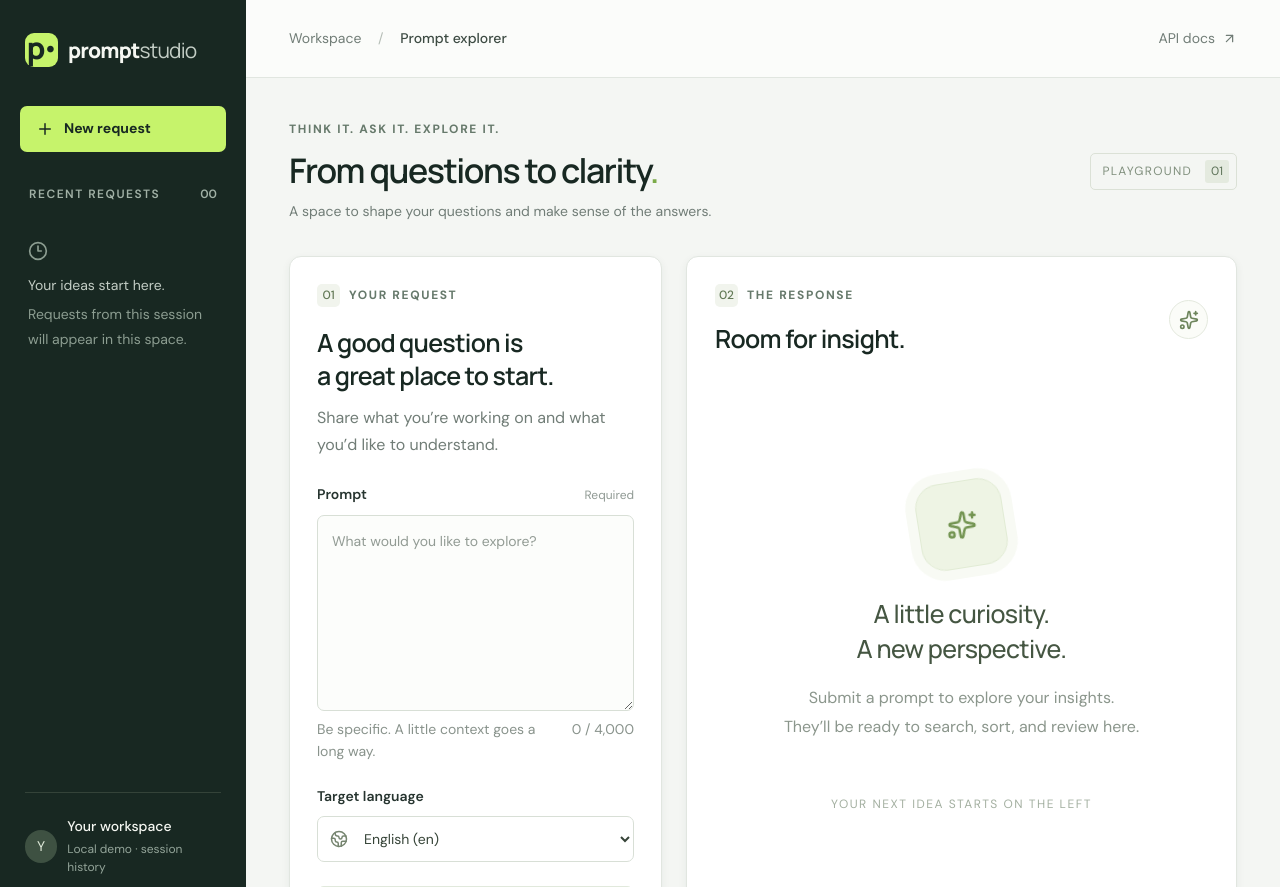
load more appends cached pages without repeating POST and history reuses the cache
Type "Improve customer onboarding" into the text box labelled "Prompt" at [476, 613], box [317,515,634,711]
(page scrolled)
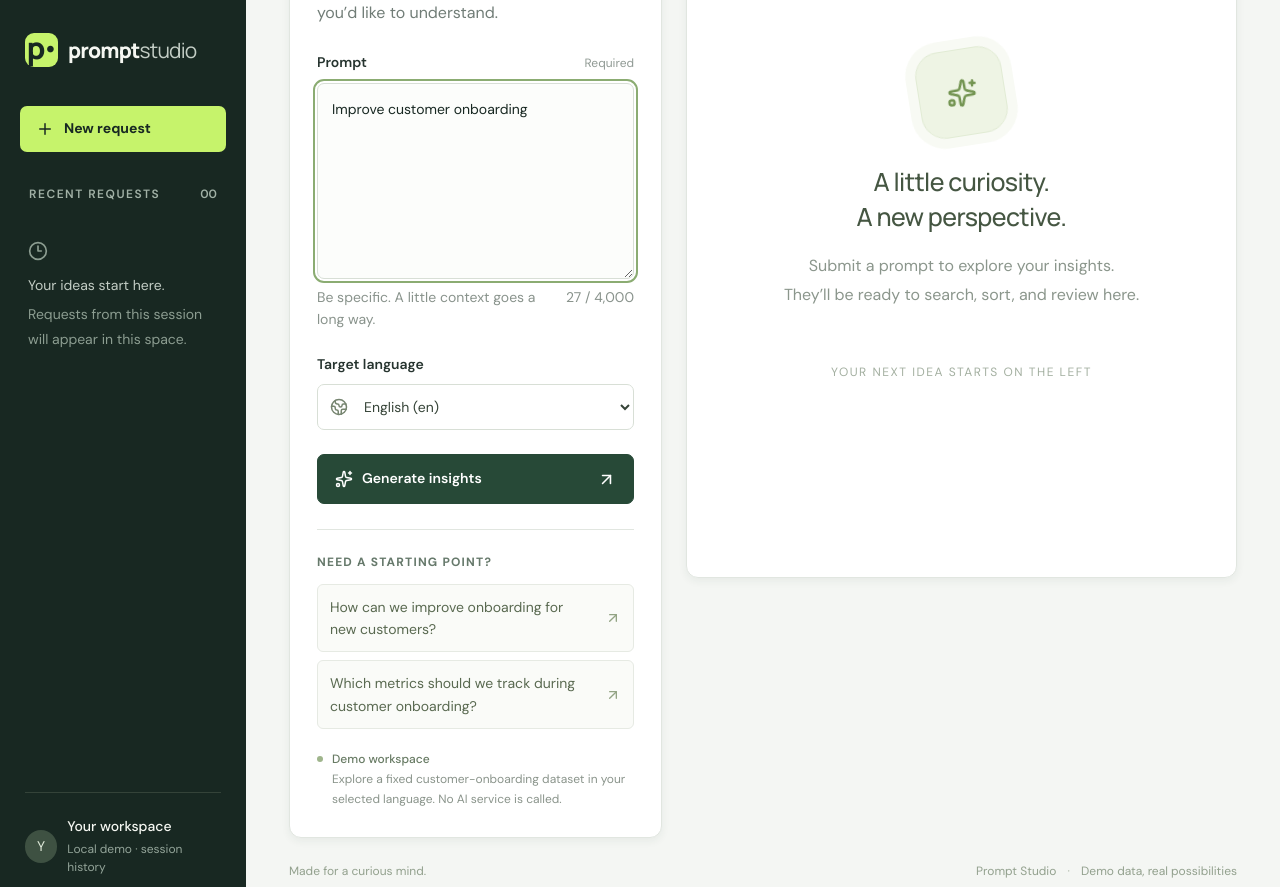
Click the button "Generate insights" at [476, 479], box [317,454,634,504]
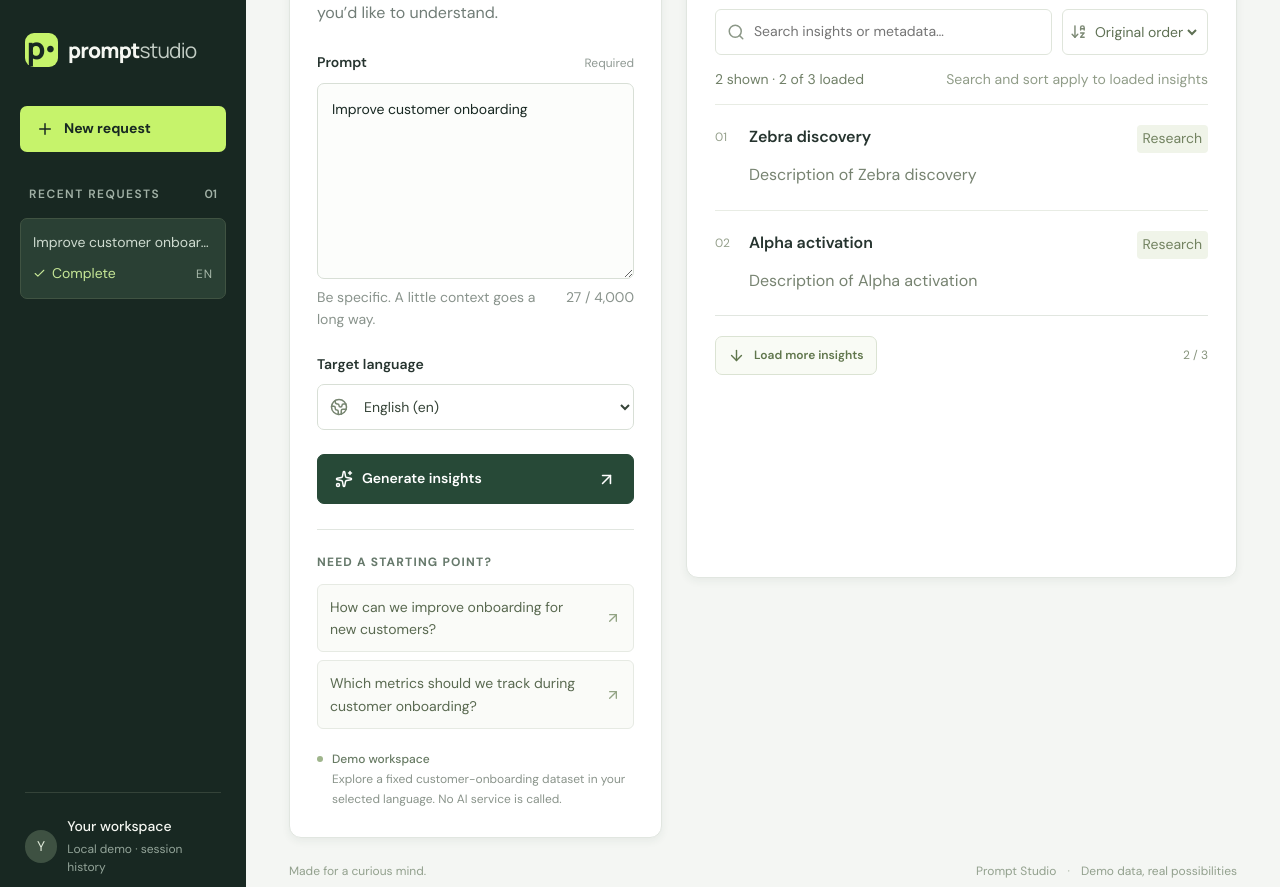
Check: the heading "Zebra discovery" is shown, box [749,126,871,147]
Click the button "Load more insights" at [796, 356], box [715,336,877,375]
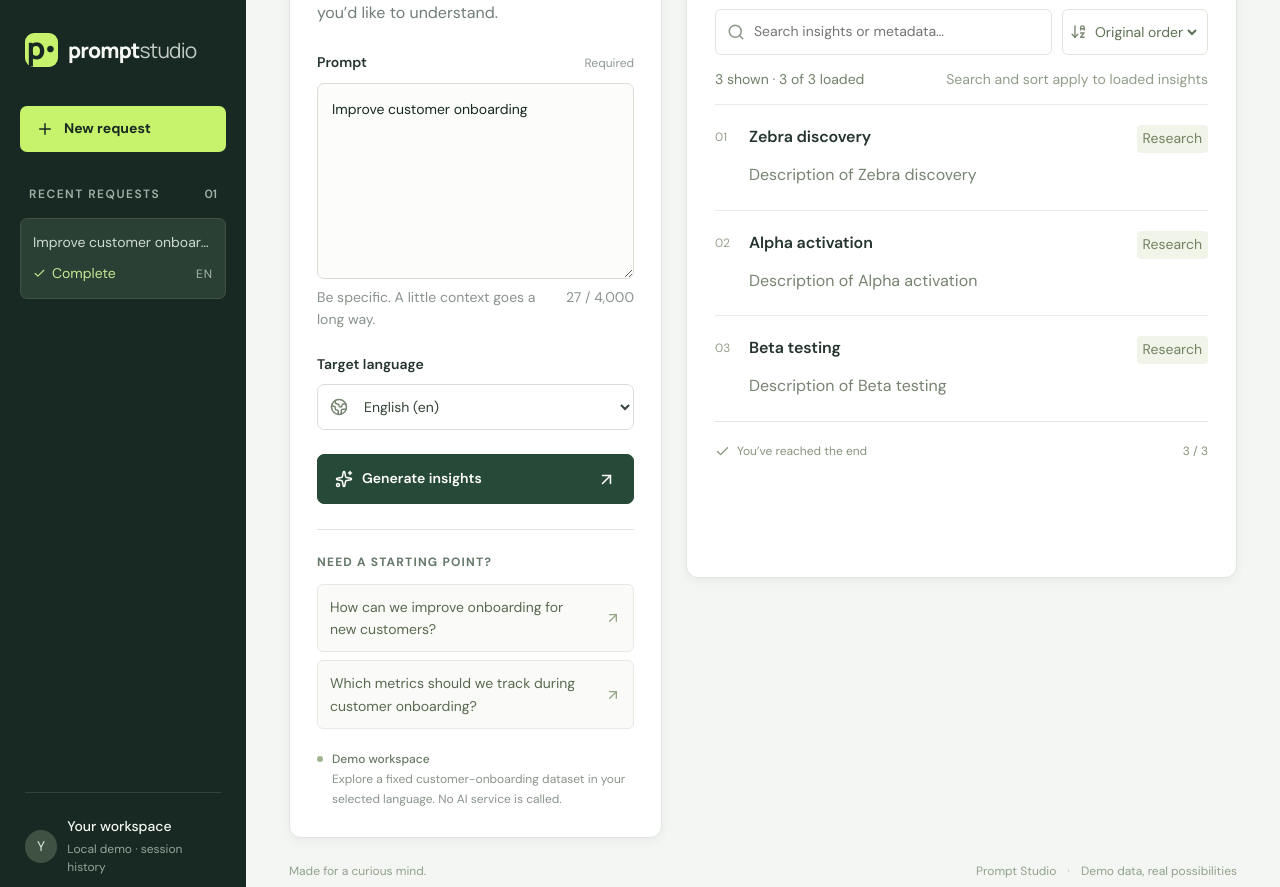
Check: the heading "Zebra discovery" is shown, box [749,126,871,147]
Check: the heading "Beta testing" is shown, box [749,337,841,358]
Check: the button "Load more insights" is gone
Click the button "New request" at [123, 129], box [20,106,226,152]
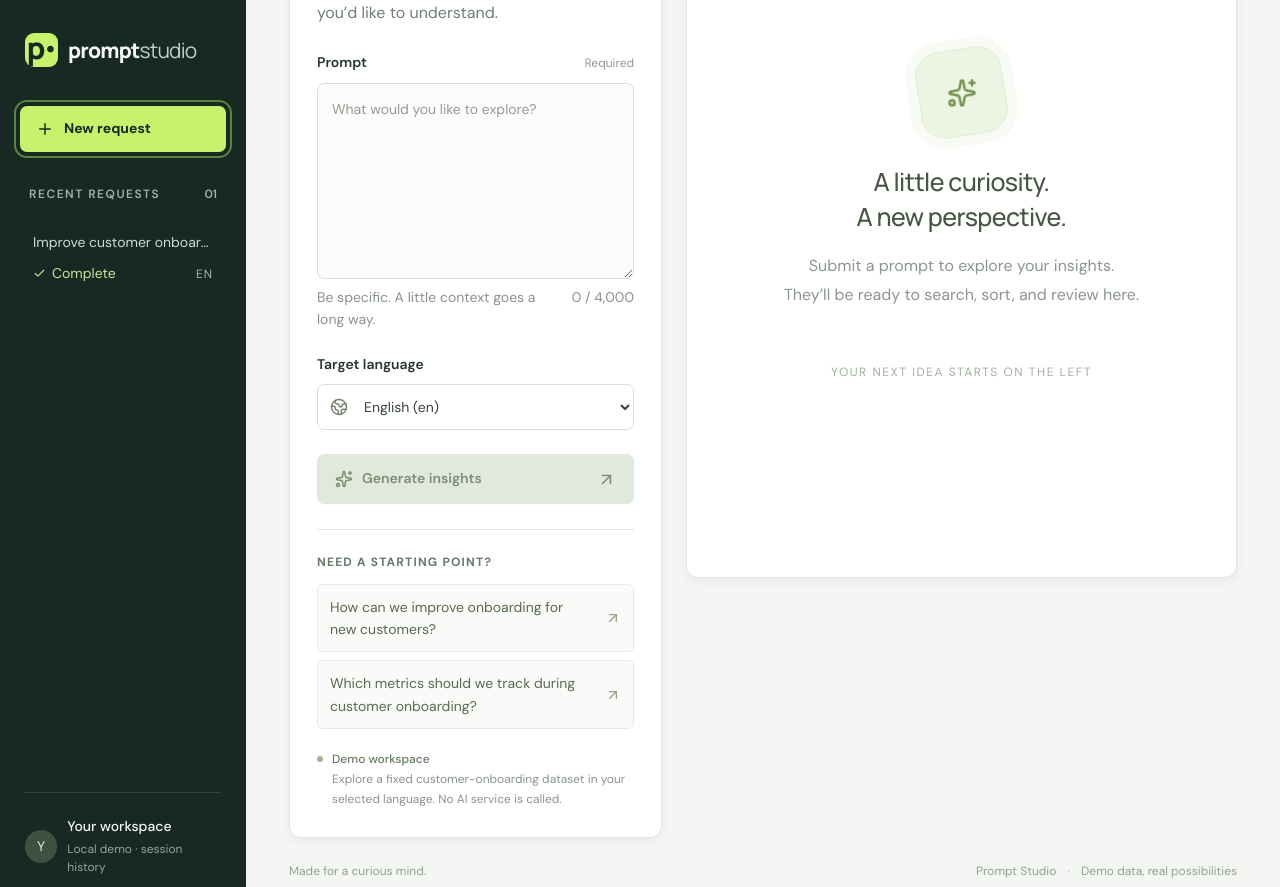
Click the button "Improve customer onboarding Complete EN" at [123, 258], box [20,218,226,299]
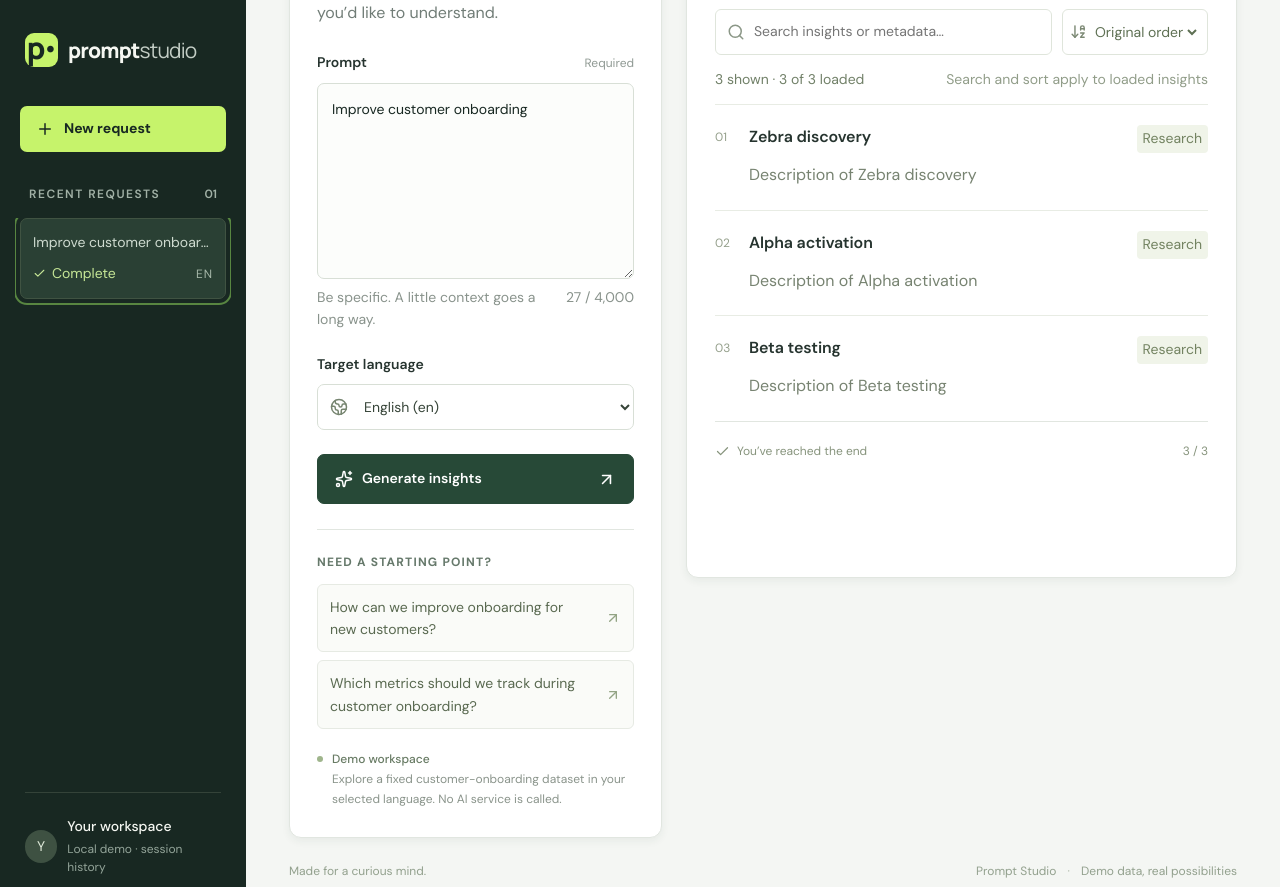
Check: the heading "Beta testing" is shown, box [749,337,841,358]
